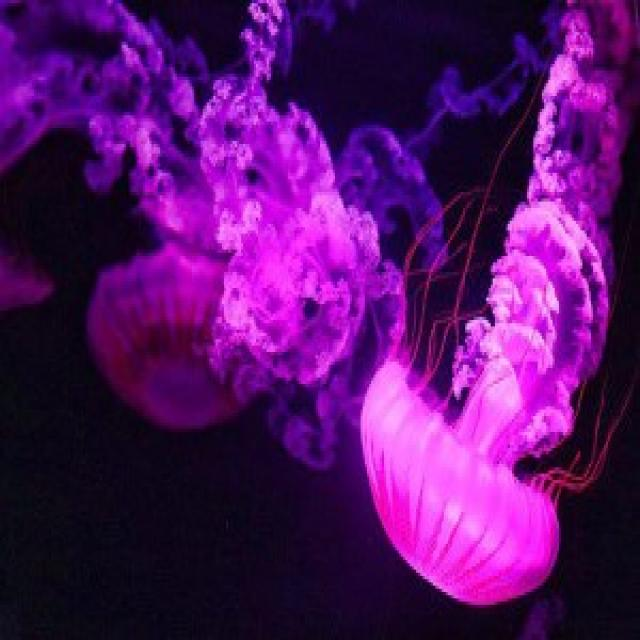Jellyfish: (352, 86, 616, 624), (69, 134, 285, 432)
